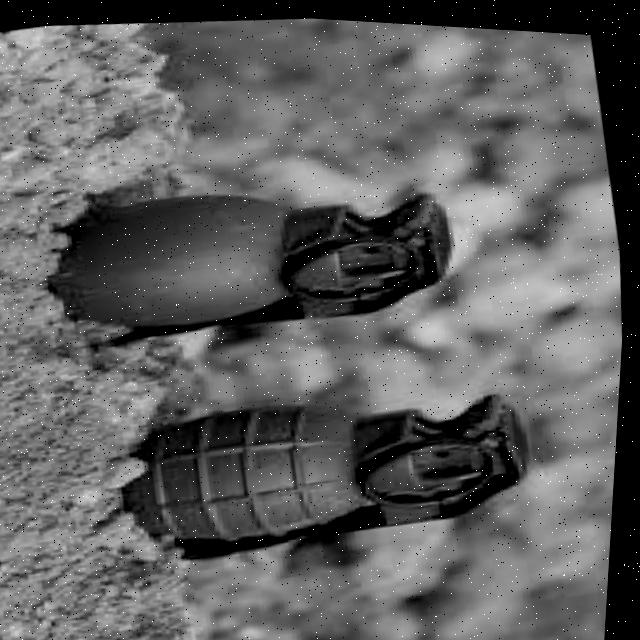grenade: (36, 129, 486, 376), (105, 344, 559, 585)
